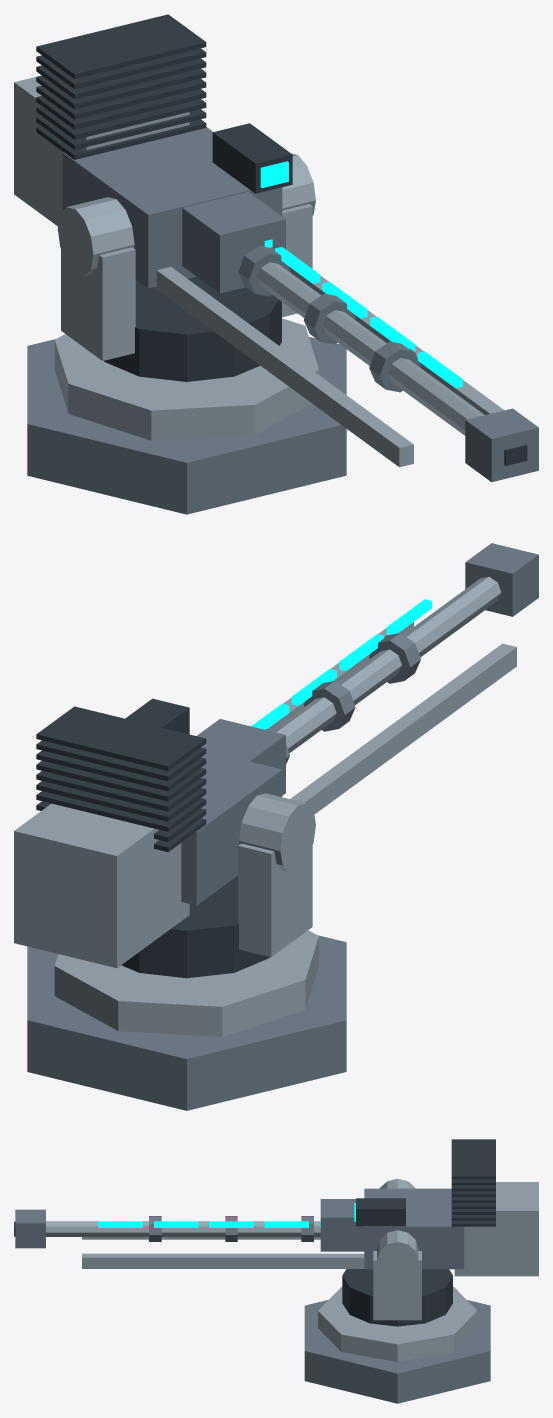
File: needle_t3.glb
The picture shows the model from 3 angles, top to bottom: view 1: azimuth 30°, elevation 25°; view 2: azimuth 150°, elevation 25°; view 3: azimuth 270°, elevation 25°; orthographic projection. The views are drawn at different scales.
Parts seen in each view (by area): view 1: Foundation, Rear radiator (×9), Base upper armor, Receiver, Longitudinal brace (×2), Yaw bearing, Elevation fork (×2), Tapered receiver, Single accelerator, Rear equipment, Trunnion (×2), Slotted muzzle body (+4 smaller); view 2: Foundation, Rear equipment, Rear radiator (×7), Base upper armor, Receiver, Longitudinal brace (×2), Yaw bearing, Elevation fork, Single accelerator, Trunnion, Slotted muzzle body, Tapered receiver (+2 smaller); view 3: Foundation, Base upper armor, Rear equipment, Longitudinal brace (×2), Receiver, Yaw bearing, Single accelerator, Elevation fork, Tapered receiver, Rear radiator, Trunnion, Offset optic (+1 smaller).
Part boxes in pixels (x1,y1,x2,y2): Foundation: [27, 337, 346, 514]; Rear radiator (×9): [36, 14, 206, 159]; Base upper armor: [54, 318, 318, 440]; Receiver: [62, 127, 282, 288]; Longitudinal brace (×2): [154, 266, 504, 467]; Yaw bearing: [104, 276, 281, 381]; Elevation fork (×2): [61, 204, 312, 360]; Tapered receiver: [182, 192, 285, 293]; Single accelerator: [257, 262, 484, 435]; Rear equipment: [14, 75, 189, 226]; Trunnion (×2): [57, 153, 315, 276]; Slotted muzzle body: [465, 408, 538, 482]; Foundation: [27, 935, 346, 1110]; Rear equipment: [14, 803, 189, 968]; Rear radiator (×7): [36, 706, 206, 831]; Base upper armor: [54, 930, 318, 1036]; Receiver: [181, 751, 282, 905]; Longitudinal brace (×2): [268, 622, 516, 814]; Yaw bearing: [121, 875, 269, 978]; Elevation fork: [238, 843, 312, 957]; Single accelerator: [272, 576, 501, 752]; Trunnion: [239, 793, 315, 872]; Slotted muzzle body: [465, 543, 538, 616]; Tapered receiver: [196, 719, 285, 795]; Foundation: [304, 1300, 490, 1403]; Base upper armor: [318, 1286, 477, 1361]; Rear equipment: [454, 1182, 538, 1276]; Longitudinal brace (×2): [82, 1237, 364, 1268]; Receiver: [364, 1188, 464, 1269]; Yaw bearing: [342, 1269, 452, 1326]; Single accelerator: [46, 1221, 320, 1236]; Elevation fork: [373, 1251, 421, 1320]; Tapered receiver: [320, 1199, 364, 1251]; Rear radiator: [451, 1139, 495, 1179]; Trunnion: [377, 1230, 418, 1279]; Offset optic: [356, 1198, 405, 1226].
Size of the model in its own units: 1.55 by 1.6 by 3.79.
